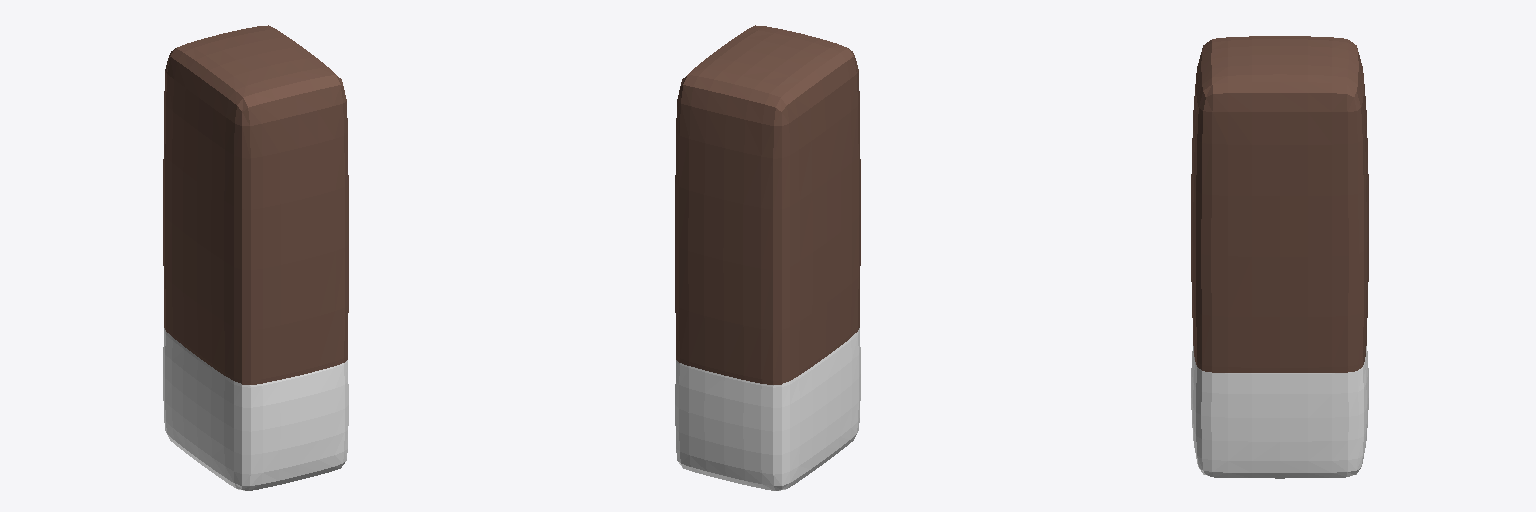
File: leg4.obj
The picture shows the model from 3 angles: view 1: azimuth 30°, elevation 25°; view 2: azimuth 150°, elevation 25°; view 3: azimuth 270°, elevation 25°; orthographic projection.
Visible parts, largest first — view 1: polySurface10; view 2: polySurface10; view 3: polySurface10.
Part boxes in pixels (bbox=[...]): polySurface10: bbox=[163, 25, 348, 490]; polySurface10: bbox=[675, 25, 860, 490]; polySurface10: bbox=[1191, 36, 1368, 478].
Bounding box in the file's own units: 0.4801 × 1.56 × 0.6251.